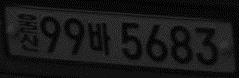3: (192, 24, 220, 68)
5: (119, 20, 144, 61)
6: (143, 21, 168, 63)
8: (169, 23, 194, 66)
9: (61, 15, 85, 57), (39, 14, 61, 53)
바: (86, 20, 112, 58)
울산_V: (16, 11, 42, 53)
